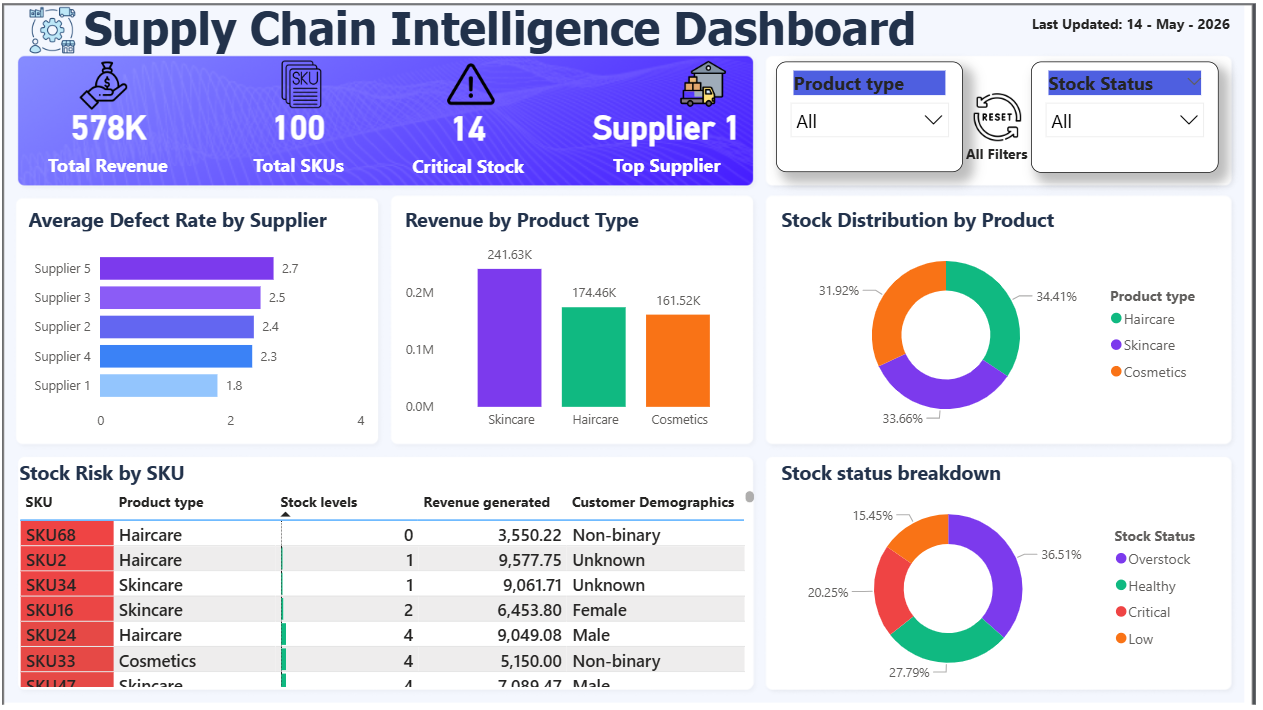

This screenshot's page, from the dashboard's own definition file:
{"tool":"powerbi","page":{"name":"Dashbord","canvas":[1280,720],"ordinal":0},"visuals":[{"type":"card","fields":{"Values":["supply_chain_data.Total Revenue"]},"box":[62.9,108.3,161.3,87.2],"z":0,"group":"g1"},{"type":"tableEx","title":"Stock Risk by SKU","fields":{"Values":["supply_chain_data.SKU","supply_chain_data.Product type","Sum(supply_chain_data.Stock levels)","Sum(supply_chain_data.Revenue generated)","supply_chain_data.Customer demographics"]},"box":[54.3,457.1,710,221.4],"z":0},{"type":"card","fields":{"Values":["supply_chain_data.Total SKUs"]},"box":[244.2,108.3,161.3,87.2],"z":1000,"group":"g1"},{"type":"clusteredColumnChart","title":"Revenue by Product Type","fields":{"Category":["supply_chain_data.Product type"],"Y":["Sum(supply_chain_data.Revenue generated)"]},"box":[421.4,216.1,335.7,221.4],"z":1000},{"type":"card","fields":{"Values":["supply_chain_data.Critical Stock"]},"box":[405.4,107.6,161.3,88.6],"z":2000,"group":"g1"},{"type":"donutChart","title":"Stock Distribution by Product","fields":{"Y":["Sum(supply_chain_data.Stock levels)"],"Category":["supply_chain_data.Product type"]},"box":[780,215.7,421,221.4],"z":2000},{"type":"card","fields":{"Values":["supply_chain_data.Top Supplier"]},"box":[594.4,108.3,162.8,87.2],"z":3000,"group":"g1"},{"type":"clusteredBarChart","title":"Average Defect Rate by Supplier","fields":{"Category":["supply_chain_data.Supplier name"],"Y":["Avg(supply_chain_data.Defect rates)"]},"box":[62.9,215.4,335.7,222.9],"z":3000},{"type":"donutChart","title":"Stock status breakdown","fields":{"Category":["supply_chain_data.Stock Status"],"Y":["Sum(supply_chain_data.Availability)"]},"box":[780,457.1,421.4,221.4],"z":4000},{"type":"slicer","title":"Filter/Slicer","fields":{"Values":["supply_chain_data.Product type"]},"box":[780,78.4,178,105],"z":5000},{"type":"slicer","title":"Filter / Slicer","fields":{"Values":["supply_chain_data.Stock Status"]},"box":[1022.9,78.1,178.6,105.7],"z":6000},{"type":"image","box":[682.9,77.6,55,45],"z":7000},{"type":"image","box":[111.4,78.6,55.7,45.7],"z":8000},{"type":"image","box":[300,77.1,55.7,45.7],"z":9000},{"type":"image","box":[461.4,77.1,55.7,45.7],"z":10000},{"type":"group","id":"g1","title":"Group 1","box":[62.9,107.6,694.3,88.6],"z":11000},{"type":"textbox","box":[115.7,20,842.9,57.1],"z":11001},{"type":"image","box":[962.6,108.1,55.7,45.7],"z":11002},{"type":"textbox","box":[1018.6,32.9,211.4,31.4],"z":11003},{"type":"textbox","box":[955.7,157.1,70,25],"z":11004},{"type":"image","box":[62.9,25.7,55.7,45.7],"z":11005}]}

Visuals, with their boxes in screenshot pixels (x1, y1, x2, y2), scaled from the page's 1280x720 canvas onto the 1263x710 screenshot:
card - supply_chain_data.Total Revenue: <bbox>62, 107, 221, 193</bbox>
"Stock Risk by SKU" tableEx: <bbox>54, 451, 754, 669</bbox>
card - supply_chain_data.Total SKUs: <bbox>241, 107, 400, 193</bbox>
"Revenue by Product Type" clusteredColumnChart: <bbox>416, 213, 747, 431</bbox>
card - supply_chain_data.Critical Stock: <bbox>400, 106, 559, 193</bbox>
"Stock Distribution by Product" donutChart: <bbox>770, 213, 1185, 431</bbox>
card - supply_chain_data.Top Supplier: <bbox>587, 107, 747, 193</bbox>
"Average Defect Rate by Supplier" clusteredBarChart: <bbox>62, 212, 393, 432</bbox>
"Stock status breakdown" donutChart: <bbox>770, 451, 1185, 669</bbox>
"Filter/Slicer" slicer: <bbox>770, 77, 945, 181</bbox>
"Filter / Slicer" slicer: <bbox>1009, 77, 1186, 181</bbox>
image: <bbox>674, 77, 728, 121</bbox>
image: <bbox>110, 78, 165, 123</bbox>
image: <bbox>296, 76, 351, 121</bbox>
image: <bbox>455, 76, 510, 121</bbox>
"Group 1" group: <bbox>62, 106, 747, 193</bbox>
textbox: <bbox>114, 20, 946, 76</bbox>
image: <bbox>950, 107, 1005, 152</bbox>
textbox: <bbox>1005, 32, 1214, 63</bbox>
textbox: <bbox>943, 155, 1012, 180</bbox>
image: <bbox>62, 25, 117, 70</bbox>
